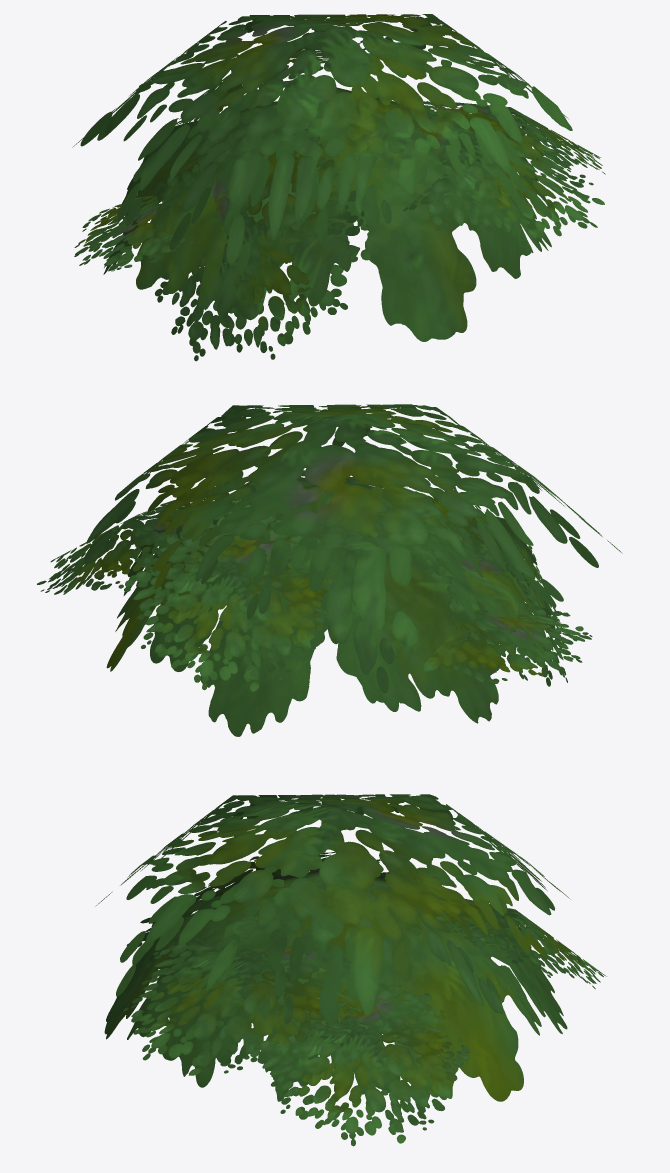
The model's file is bush1.fbx.
3 views of the same model, one above another, from view 1: azimuth 30°, elevation 25°; view 2: azimuth 150°, elevation 25°; view 3: azimuth 270°, elevation 25° (orthographic).
Visible parts, largest first — view 1: bush01; view 2: bush01; view 3: bush01.
Boxes of the visible parts, x1=… form: bush01: x1=72, y1=14, x2=605, y2=361; bush01: x1=37, y1=404, x2=622, y2=736; bush01: x1=95, y1=794, x2=606, y2=1146.
Bounding box in the file's own units: 1.87 × 0.8739 × 1.93.
